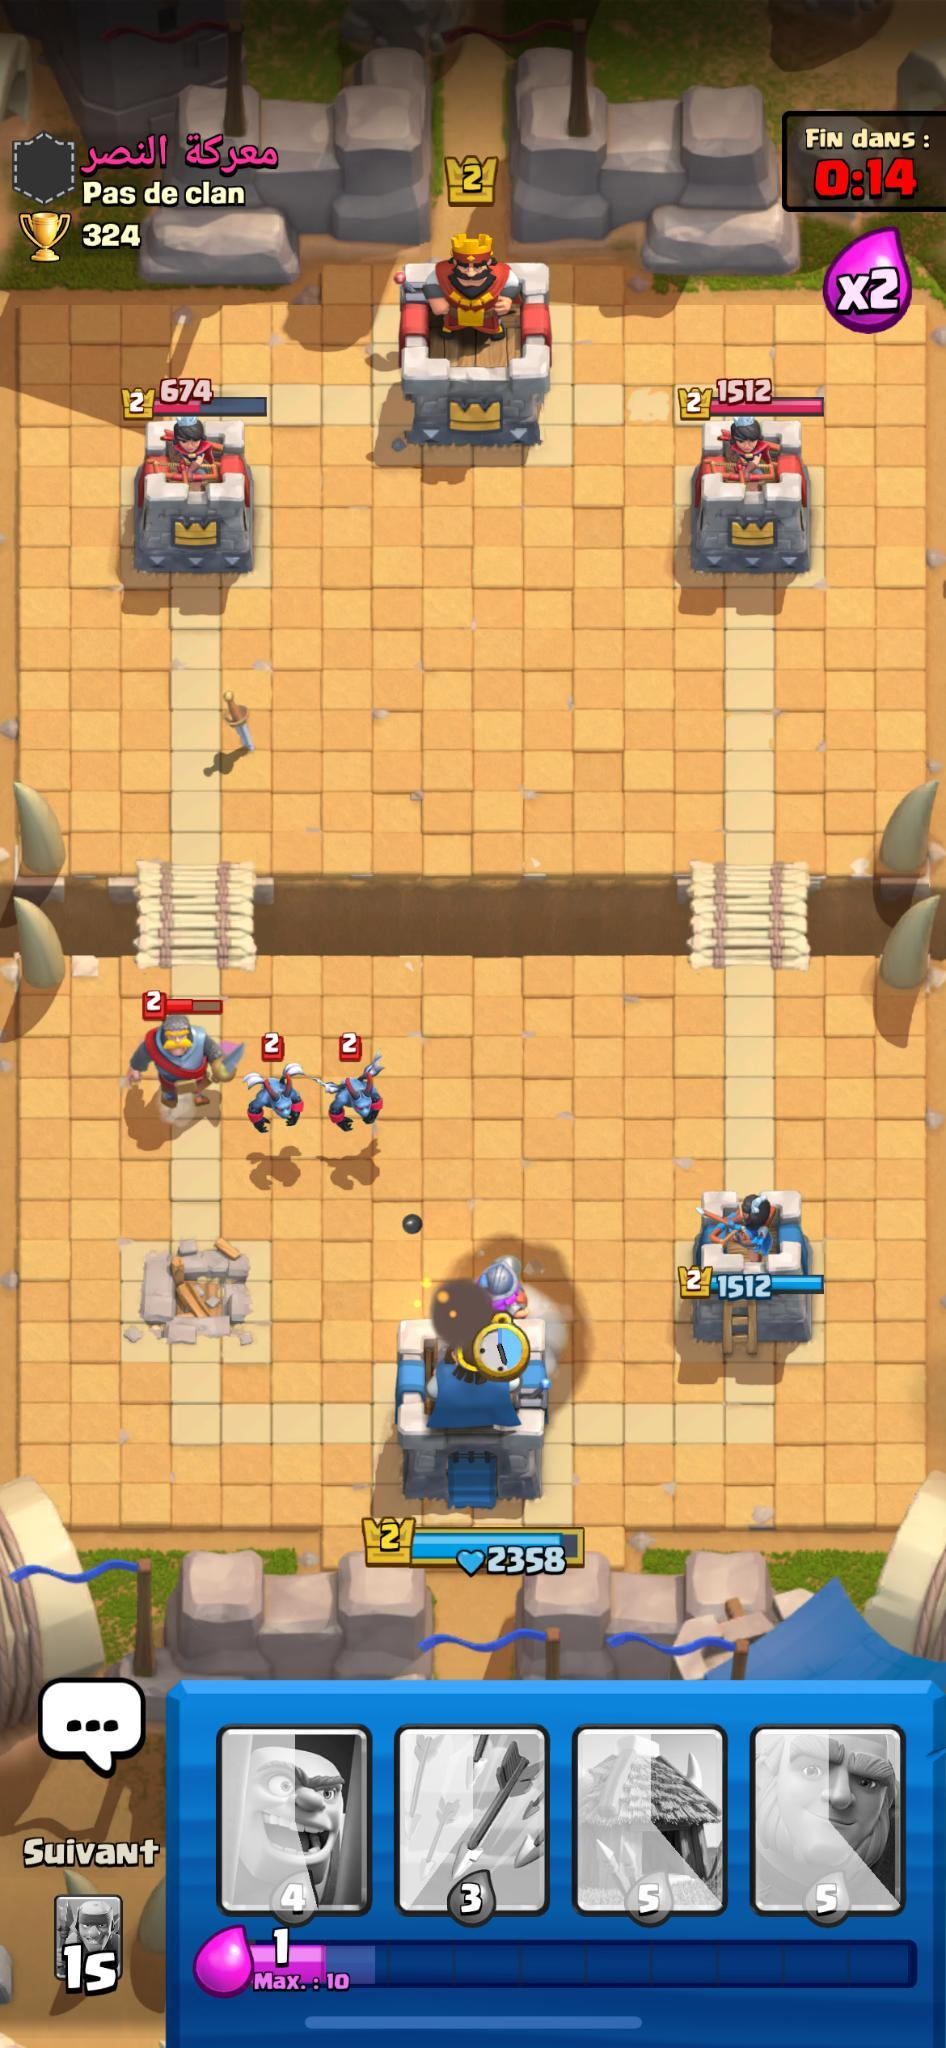enemy_knight: (117, 997, 246, 1115)
enemy_minions: (240, 1060, 310, 1140), (321, 1053, 389, 1134)
player_musketeer: (452, 1245, 542, 1333)
